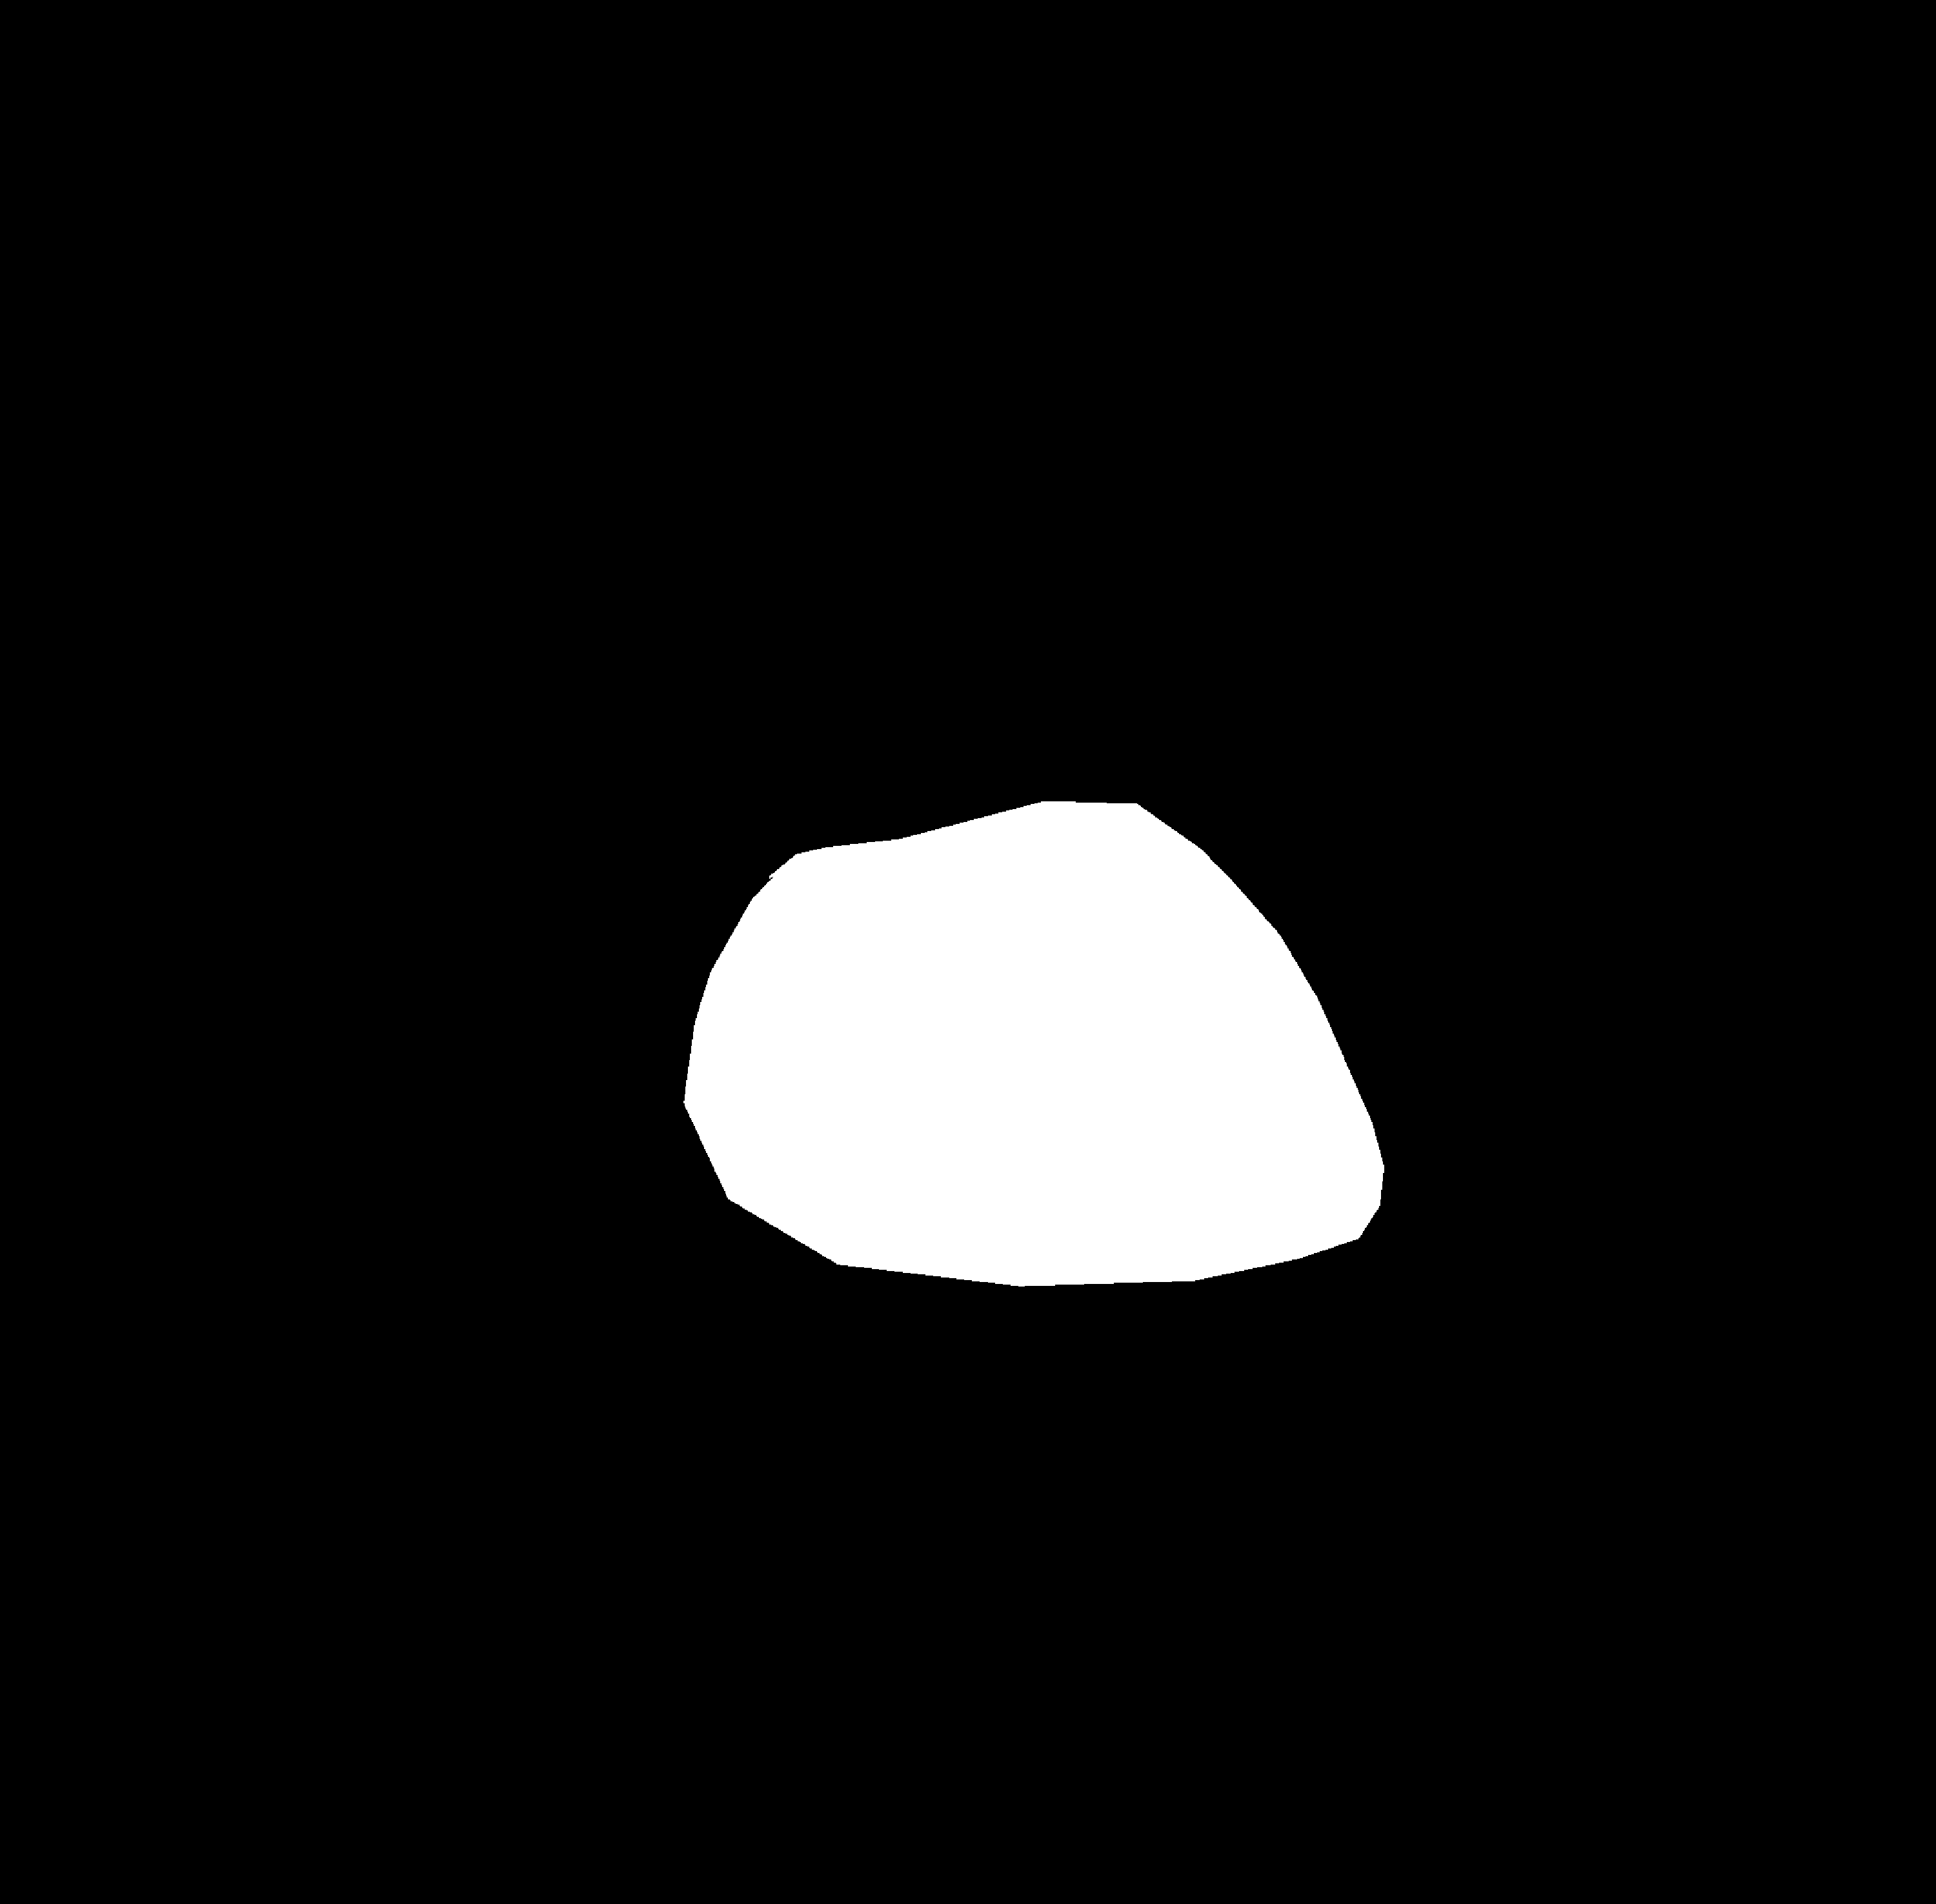heart: (687, 847, 1352, 1241)
left_lung: (218, 211, 900, 1423)
right_lung: (1020, 216, 1605, 1412)
